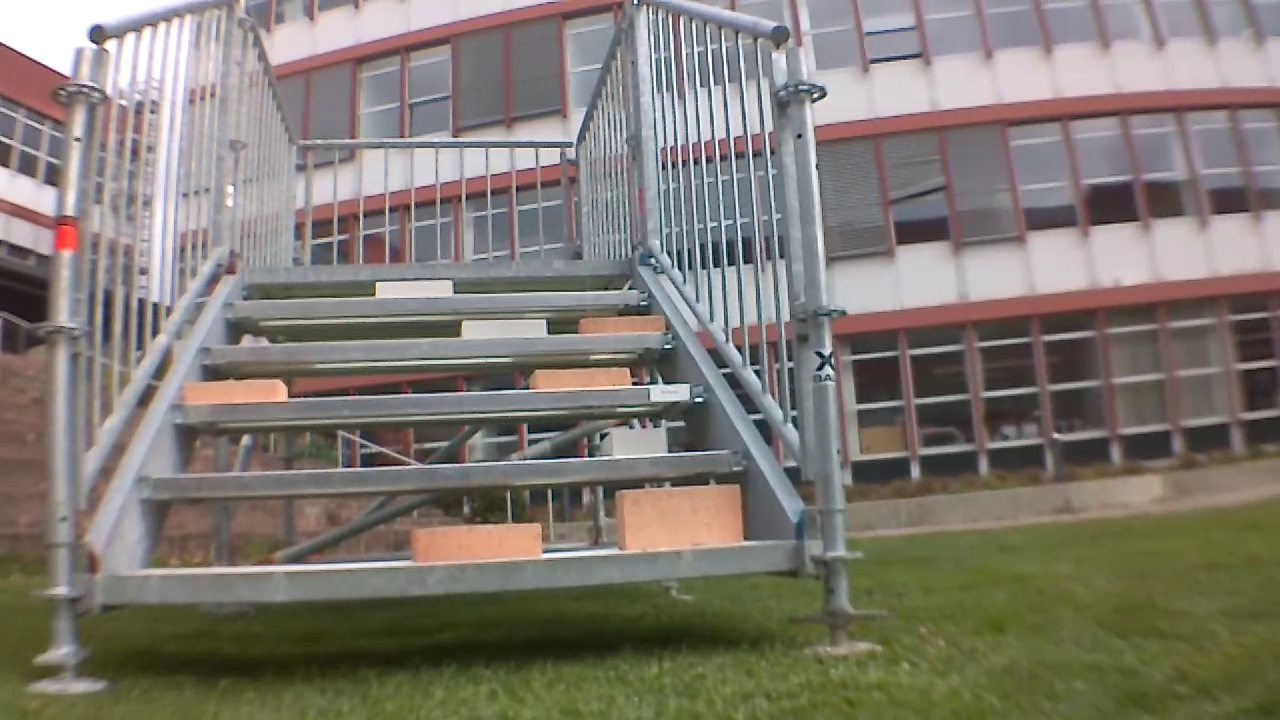brick: (620, 483, 749, 554), (415, 523, 534, 569), (181, 380, 297, 408), (603, 423, 672, 458), (521, 370, 625, 392), (465, 319, 548, 341), (374, 277, 454, 299), (585, 314, 665, 333)
edge: (103, 539, 808, 606), (144, 446, 738, 503), (165, 381, 705, 423), (198, 329, 683, 367), (216, 285, 654, 323), (231, 259, 638, 284)
stairs: (63, 7, 831, 681)
steps: (63, 259, 861, 591)
